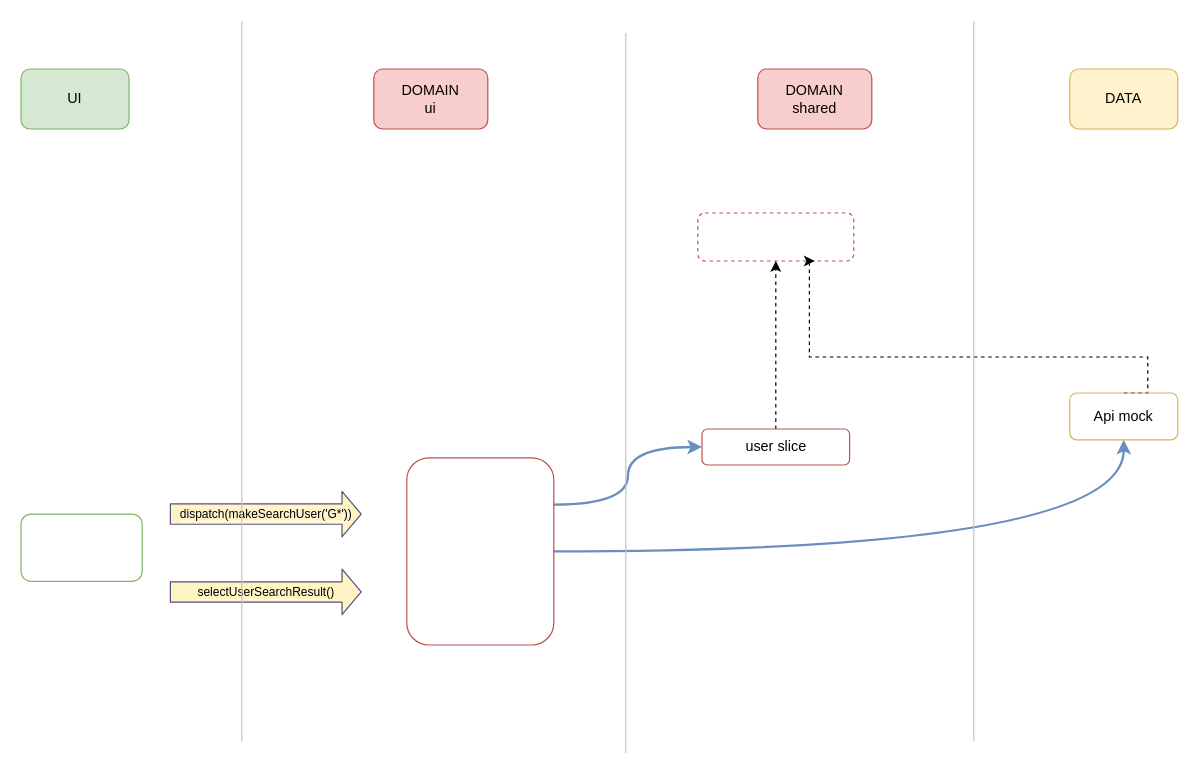
The diagram is 1199 pixels wide and 775 high, and some of its shapes have lost their labels. The box of each missing label's shape, as (x1, y1, x2, y2) in pixels:
IApi callSearchUser(text): (697, 212, 854, 261)
SearchScreen: (20, 513, 142, 581)
Store: (406, 457, 554, 645)
